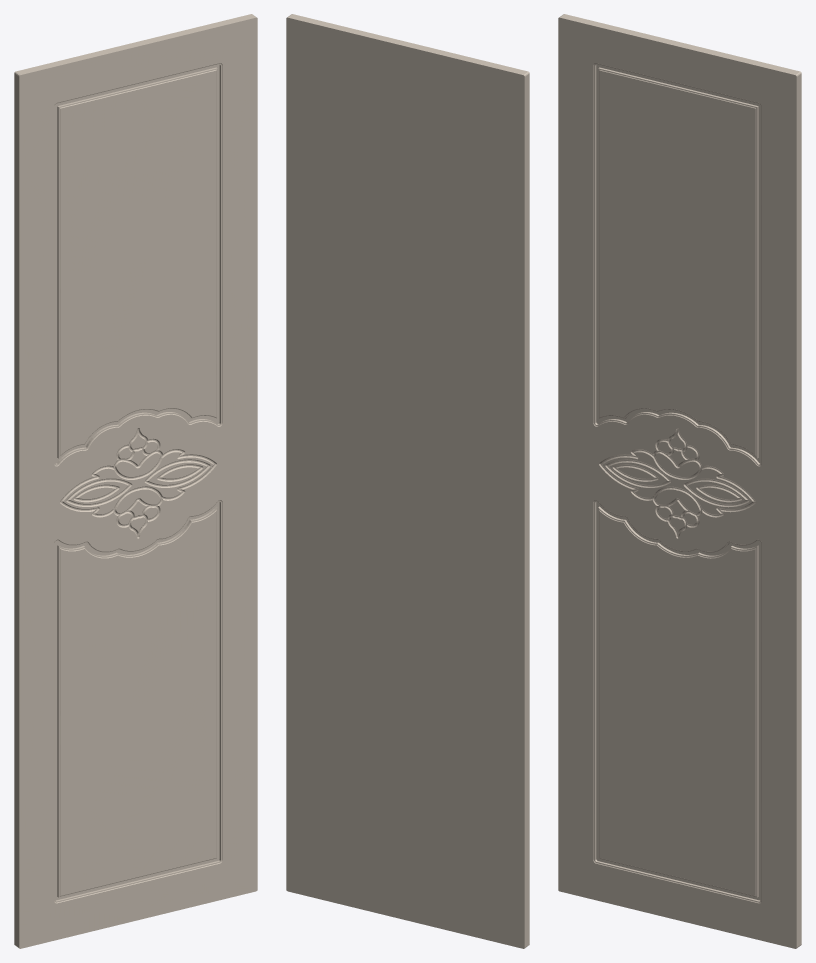
Rendered from nrd-boy-kpk-10.glb.
3 views of the same model, side by side, from view 1: azimuth 30°, elevation 25°; view 2: azimuth 150°, elevation 25°; view 3: azimuth 330°, elevation 25° (orthographic).
Parts seen in each view (by area): view 1: NRD BOY KPK 10; view 2: NRD BOY KPK 10; view 3: NRD BOY KPK 10.
Boxes of the visible parts, box(x1,y1,x2,y2) form: NRD BOY KPK 10: box(14, 14, 257, 948); NRD BOY KPK 10: box(286, 14, 529, 948); NRD BOY KPK 10: box(558, 14, 801, 948).
Bounding box in the file's own units: 0.4999 × 1.75 × 0.018.
